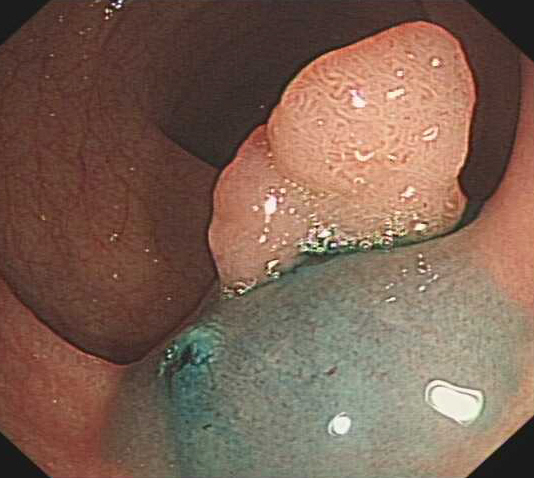adenoma: (202, 19, 479, 293)
